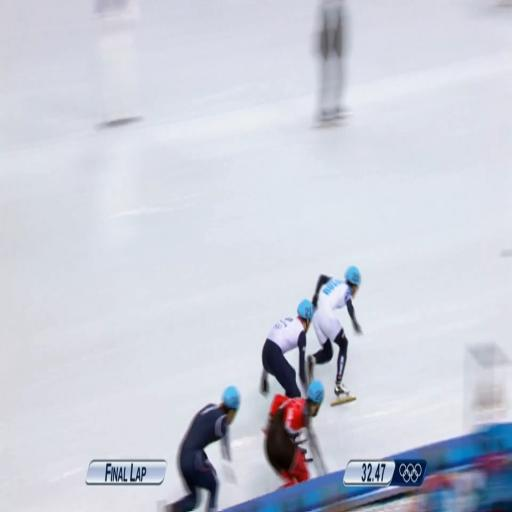Skater: (159, 386, 240, 511), (308, 266, 361, 404), (265, 381, 326, 486), (261, 300, 313, 397)
